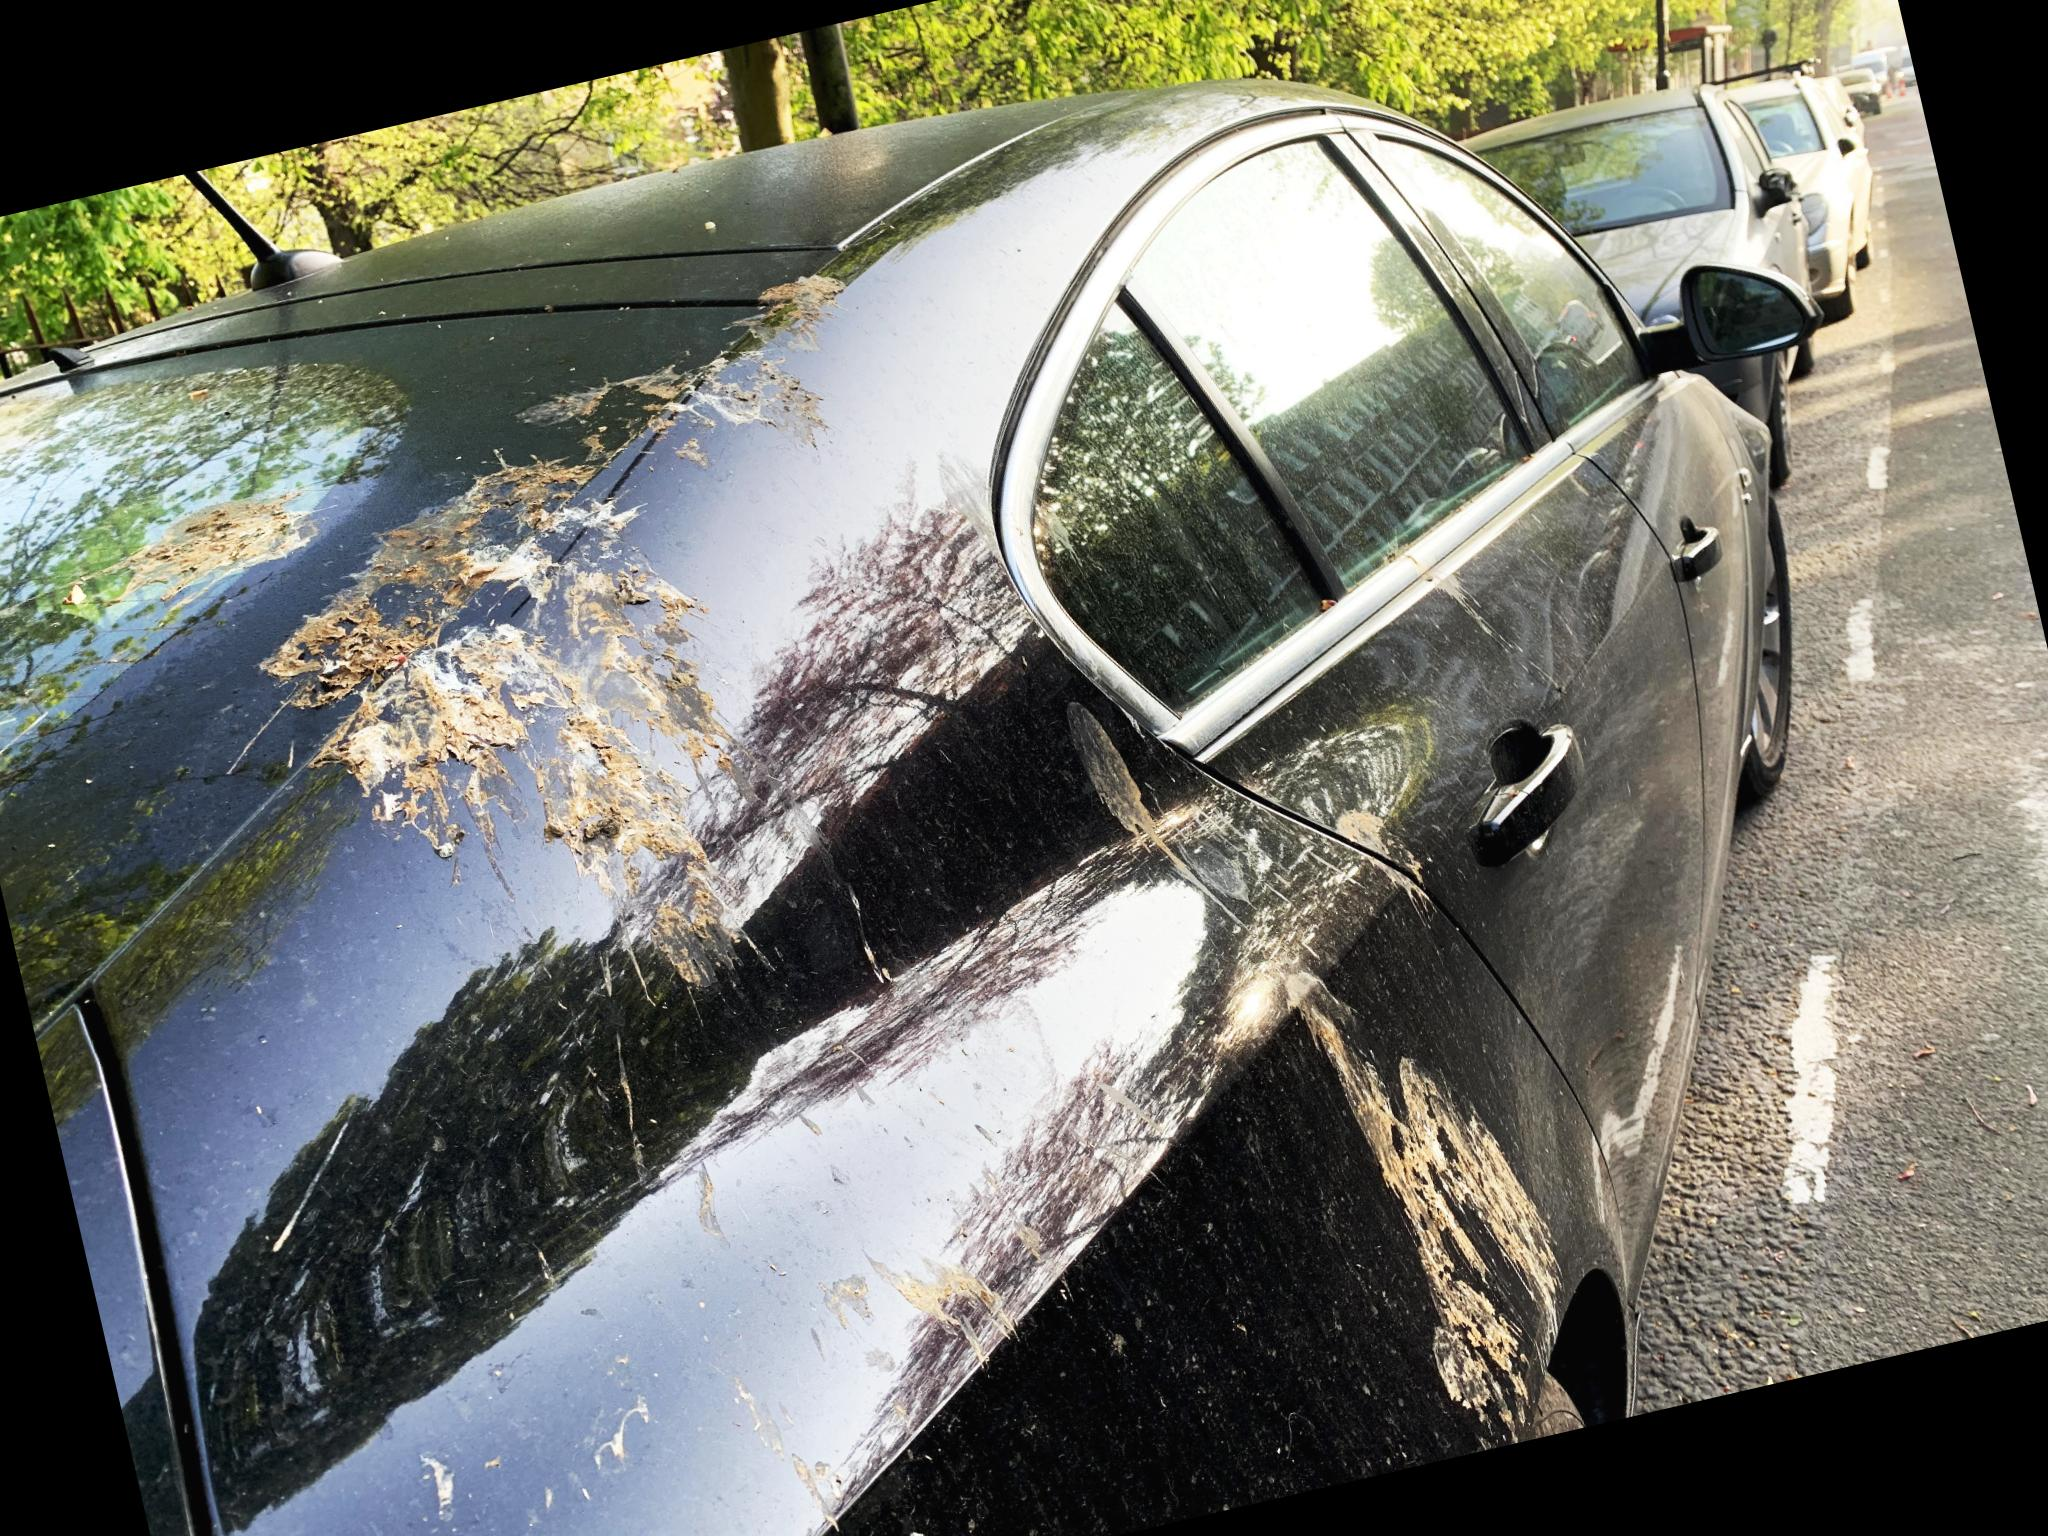Bird Poop: (263, 345, 819, 984), (1285, 971, 1582, 1442), (1068, 702, 1214, 897), (98, 494, 306, 603), (876, 1260, 1016, 1362), (743, 274, 845, 337), (63, 582, 94, 607)
